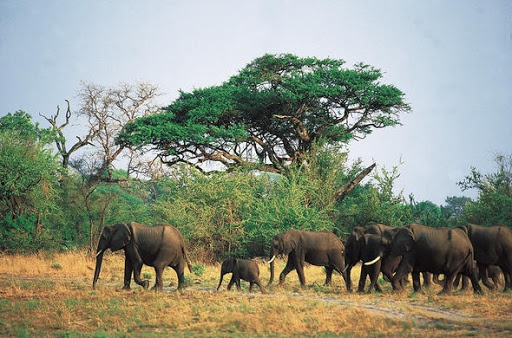elephant: (344, 223, 471, 294), (89, 221, 193, 289), (265, 229, 348, 289), (214, 256, 264, 292)
